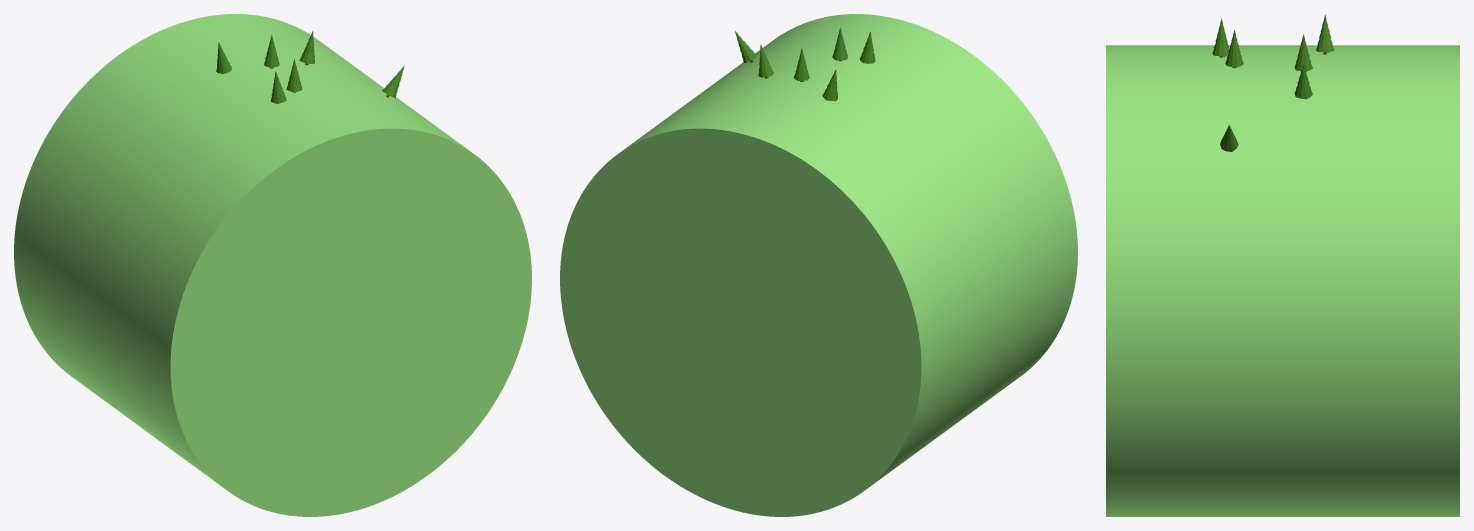
Rendered from cylinderMapTest.glb.
3 views of the same model, side by side, from view 1: azimuth 30°, elevation 25°; view 2: azimuth 150°, elevation 25°; view 3: azimuth 270°, elevation 25° (orthographic). The views are drawn at different scales.
Visible parts, largest first — view 1: Cylinder.003; view 2: Cylinder.003; view 3: Cylinder.003.
Part boxes in pixels (x1,y1,x2,y2): Cylinder.003: (14, 14, 531, 516); Cylinder.003: (560, 14, 1077, 516); Cylinder.003: (1106, 45, 1459, 516).
Size of the model in its own units: 100 by 109 by 75.
